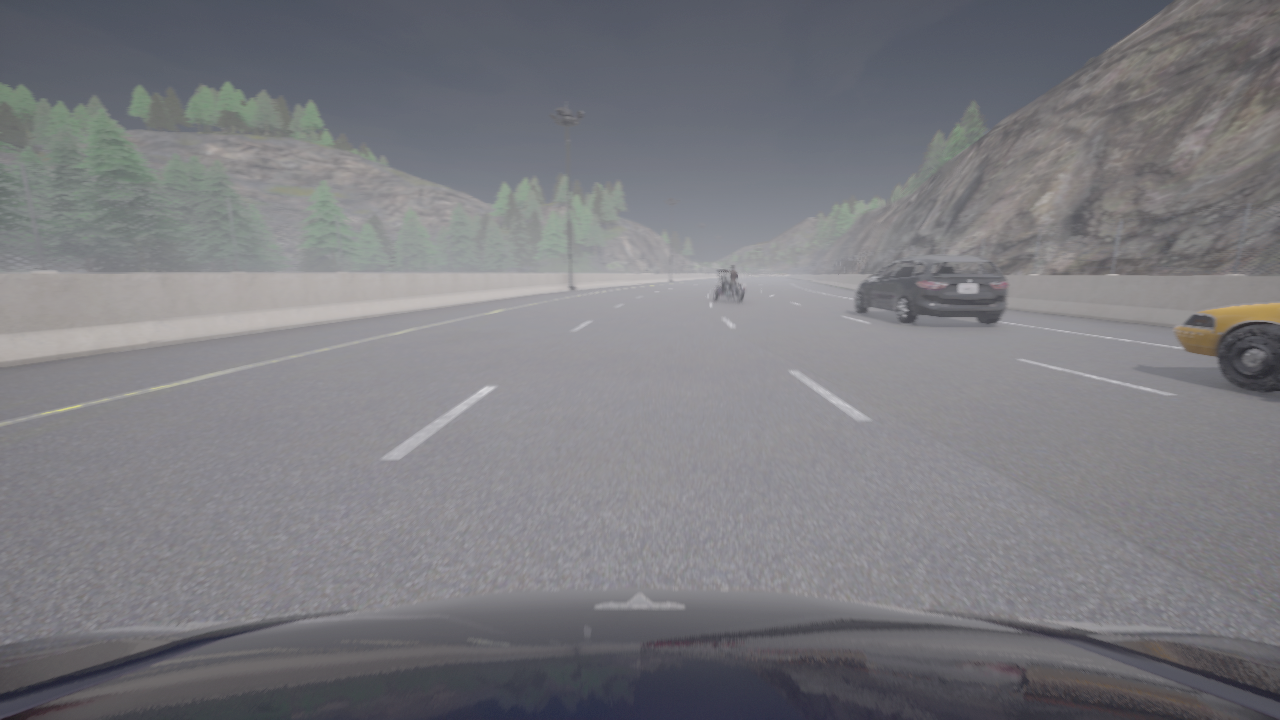cyclist: (0, 588, 1279, 719), (854, 256, 1007, 324), (1173, 302, 1279, 392), (713, 270, 746, 302)
